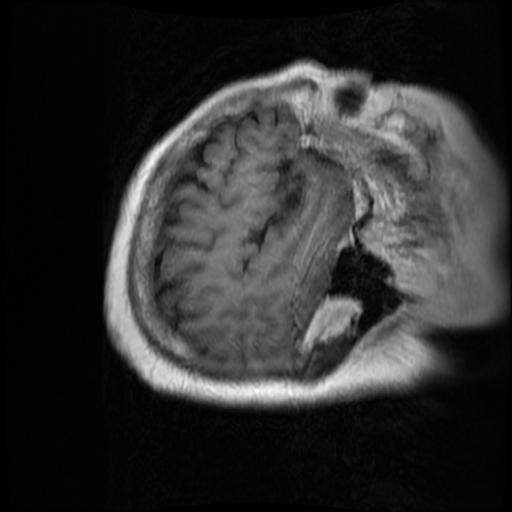meningioma: (298, 294, 365, 354)
